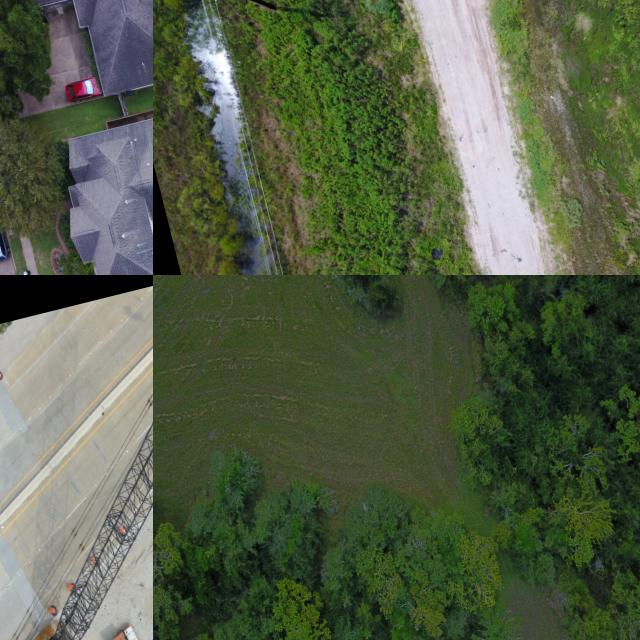fire: (185, 0, 283, 275)
